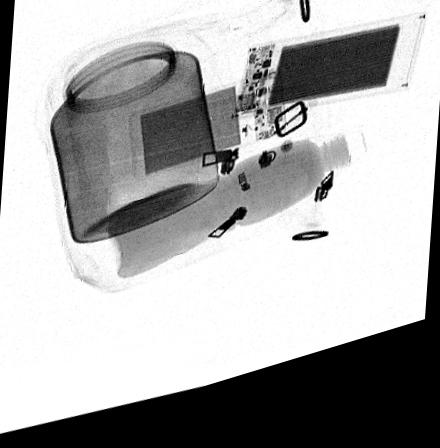Powerbank: (227, 37, 428, 137), (126, 84, 289, 188)
